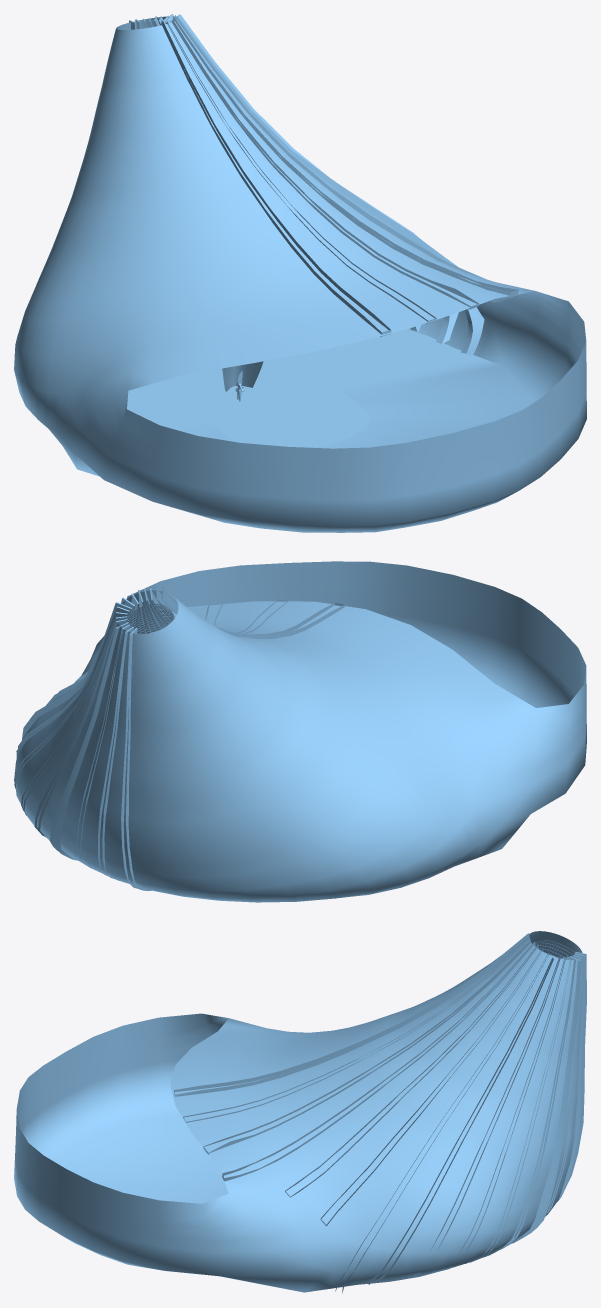
3 renders of one model, top to bottom at view 1: azimuth 30°, elevation 25°; view 2: azimuth 150°, elevation 25°; view 3: azimuth 270°, elevation 25°, orthographic. The views are drawn at different scales.
Parts seen in each view (by area): view 1: 对象1555, 对象1554, Box058; view 2: 对象1555, 对象1554, 对象1553; view 3: 对象1555, 对象1554.
Part boxes in pixels (box(x1,y1,x2,y2)): 对象1555: box(14, 16, 586, 532); 对象1554: box(129, 14, 518, 355); Box058: box(222, 361, 263, 391); 对象1555: box(14, 561, 586, 902); 对象1554: box(14, 587, 345, 890); 对象1553: box(126, 604, 176, 633); 对象1555: box(14, 931, 582, 1292); 对象1554: box(174, 933, 586, 1293).
Bounding box in the file's own units: 4165 × 2678 × 5073.
